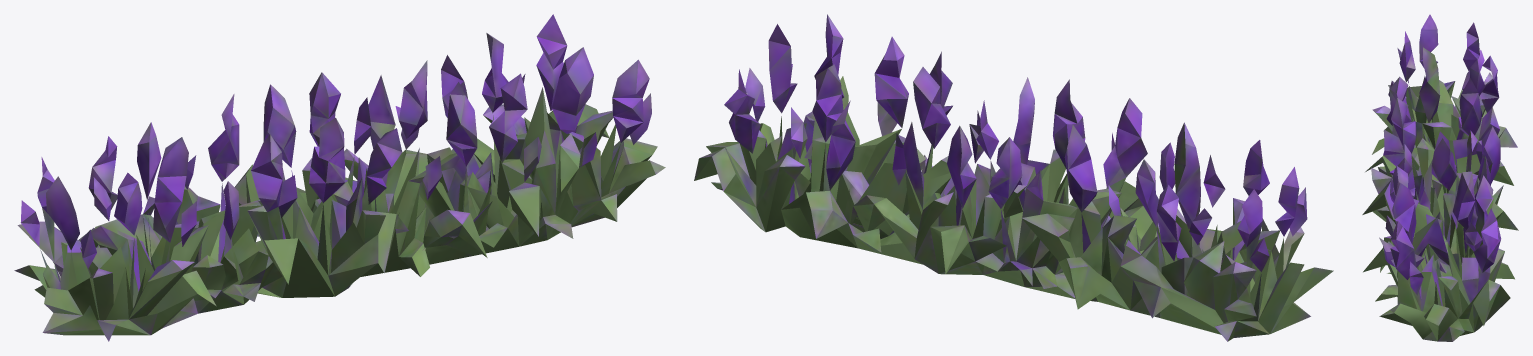
The model's file is flower-lavender.glb.
The picture shows the model from 3 angles, left to right: view 1: azimuth 30°, elevation 25°; view 2: azimuth 150°, elevation 25°; view 3: azimuth 270°, elevation 25°; orthographic projection. The views are drawn at different scales.
Visible parts, largest first — view 1: flower-lavender-fit; view 2: flower-lavender-fit; view 3: flower-lavender-fit.
Part boxes in pixels (bbox=[...]): flower-lavender-fit: bbox=[14, 14, 665, 341]; flower-lavender-fit: bbox=[694, 14, 1333, 341]; flower-lavender-fit: bbox=[1362, 14, 1518, 341].
Bounding box in the file's own units: 2.08 × 0.6 × 0.5977.
Materials: 1 (1 with a texture image).
